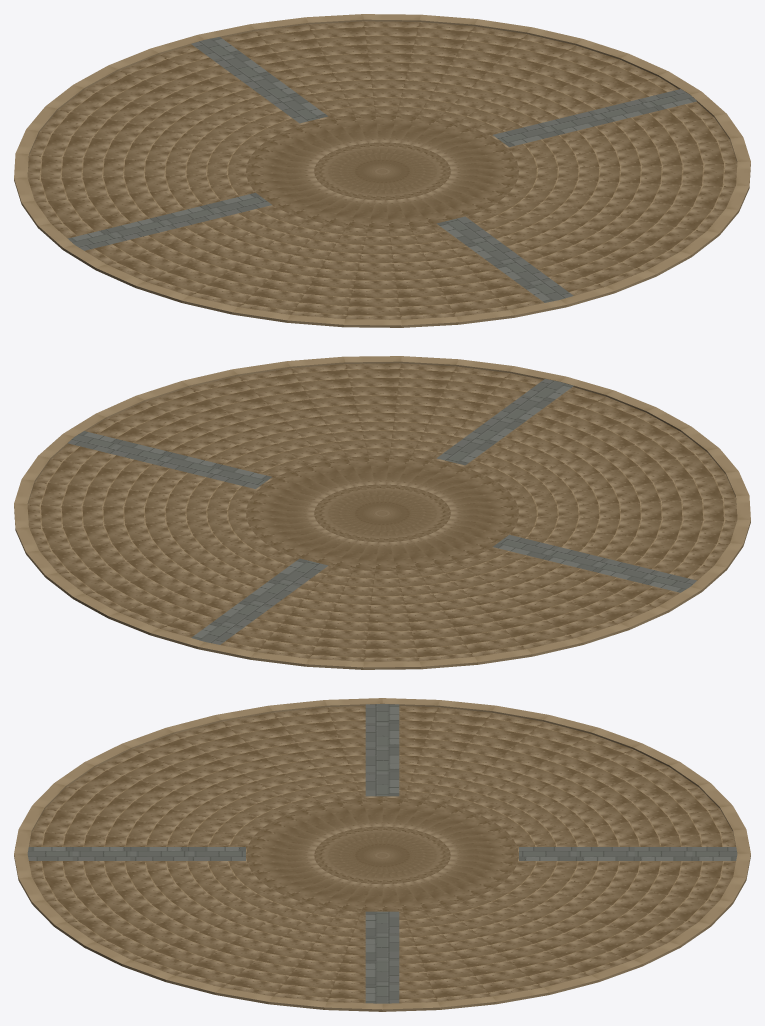
Rendered from village_large_base.glb.
The picture shows the model from 3 angles, top to bottom: view 1: azimuth 30°, elevation 25°; view 2: azimuth 150°, elevation 25°; view 3: azimuth 270°, elevation 25°; orthographic projection.
Visible parts, largest first — view 1: ae_sand_village_large_base; view 2: ae_sand_village_large_base; view 3: ae_sand_village_large_base.
Part boxes in pixels (x1,y1,x2,y2): ae_sand_village_large_base: [14, 14, 750, 327]; ae_sand_village_large_base: [14, 356, 750, 669]; ae_sand_village_large_base: [14, 698, 750, 1011].
Size of the model in its own units: 1.64 by 0.00599 by 1.64.
Materials: 1 (1 with a texture image).
